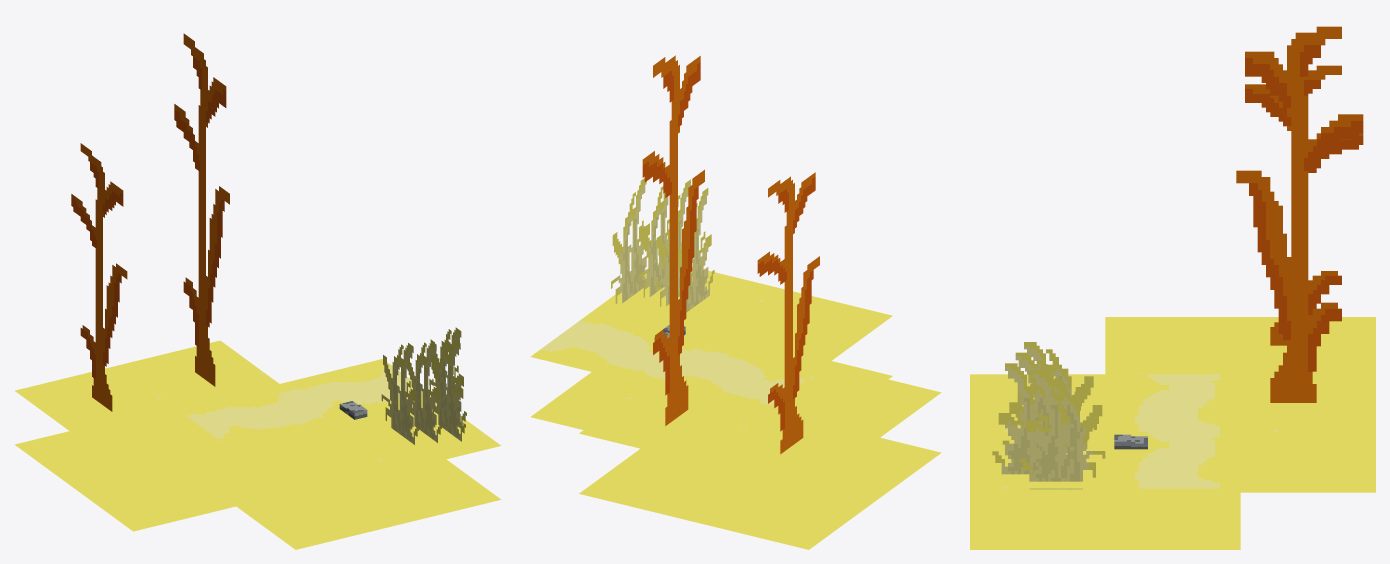
File: MapBaru.gltf
3 renders of one model, left to right at view 1: azimuth 30°, elevation 25°; view 2: azimuth 150°, elevation 25°; view 3: azimuth 270°, elevation 25°, orthographic. The views are drawn at different scales.
Visible parts, largest first — view 1: mesh (×6), plane; view 2: mesh (×6), plane; view 3: mesh (×6), plane.
Part boxes in pixels (x1,y1,x2,y2): mesh (×6): [14, 33, 436, 549]; plane: [339, 327, 501, 524]; mesh (×6): [530, 55, 941, 549]; plane: [597, 178, 777, 336]; mesh (×6): [970, 26, 1375, 549]; plane: [970, 342, 1105, 549].
Size of the model in its own units: 3 by 3.67 by 3.
Materials: 5 (5 with a texture image).
